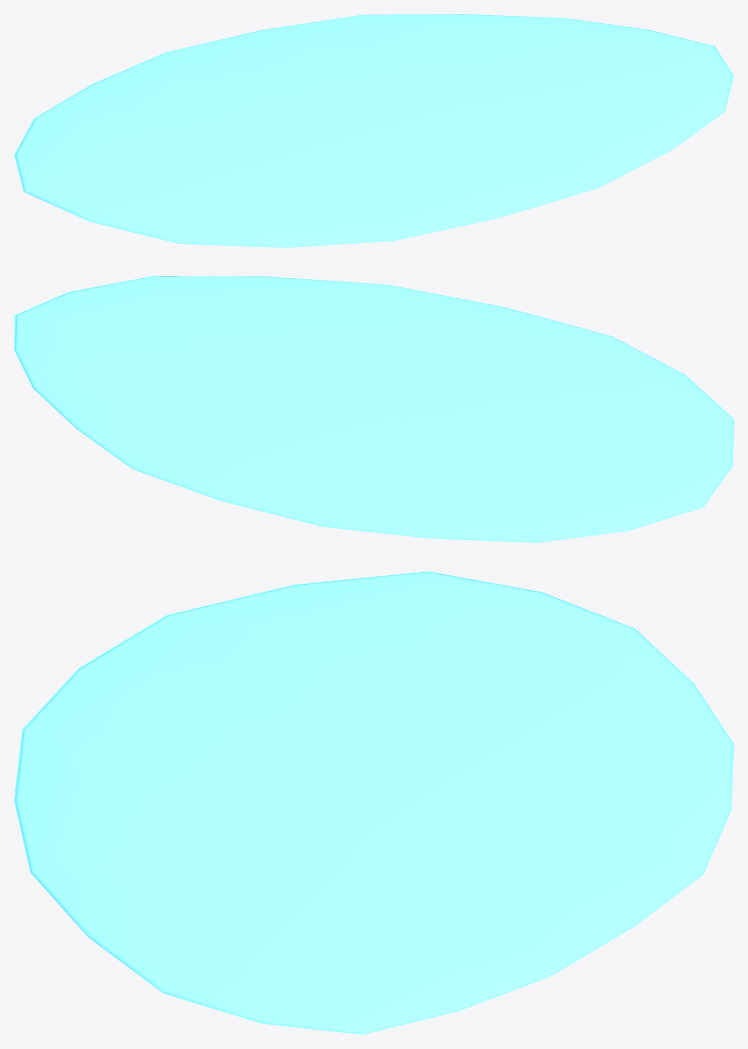
The model's file is ooze_puddle_c.glb.
3 renders of one model, top to bottom at view 1: azimuth 30°, elevation 25°; view 2: azimuth 150°, elevation 25°; view 3: azimuth 270°, elevation 25°, orthographic. The views are drawn at different scales.
Parts seen in each view (by area): view 1: ooze_puddle_c; view 2: ooze_puddle_c; view 3: ooze_puddle_c.
Part boxes in pixels (bbox=[...]): ooze_puddle_c: bbox=[14, 14, 733, 247]; ooze_puddle_c: bbox=[14, 276, 733, 542]; ooze_puddle_c: bbox=[14, 571, 733, 1034].
Size of the model in its own units: 1.6 by 0.0488 by 1.05.
